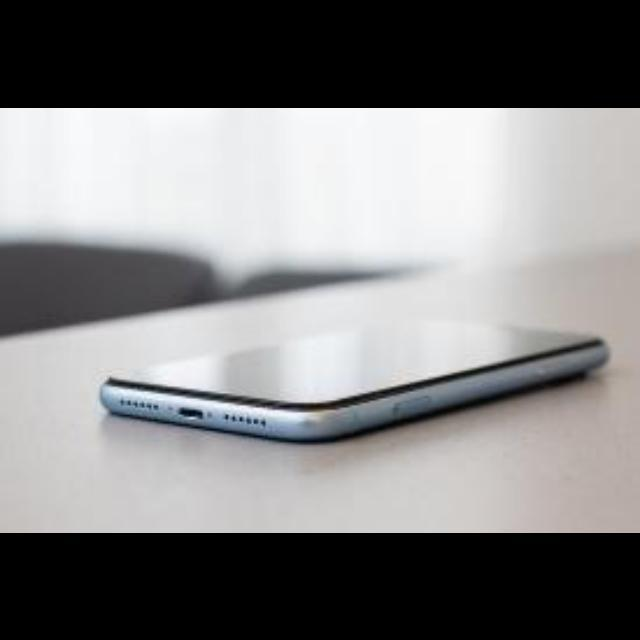phone: (69, 270, 623, 466)
